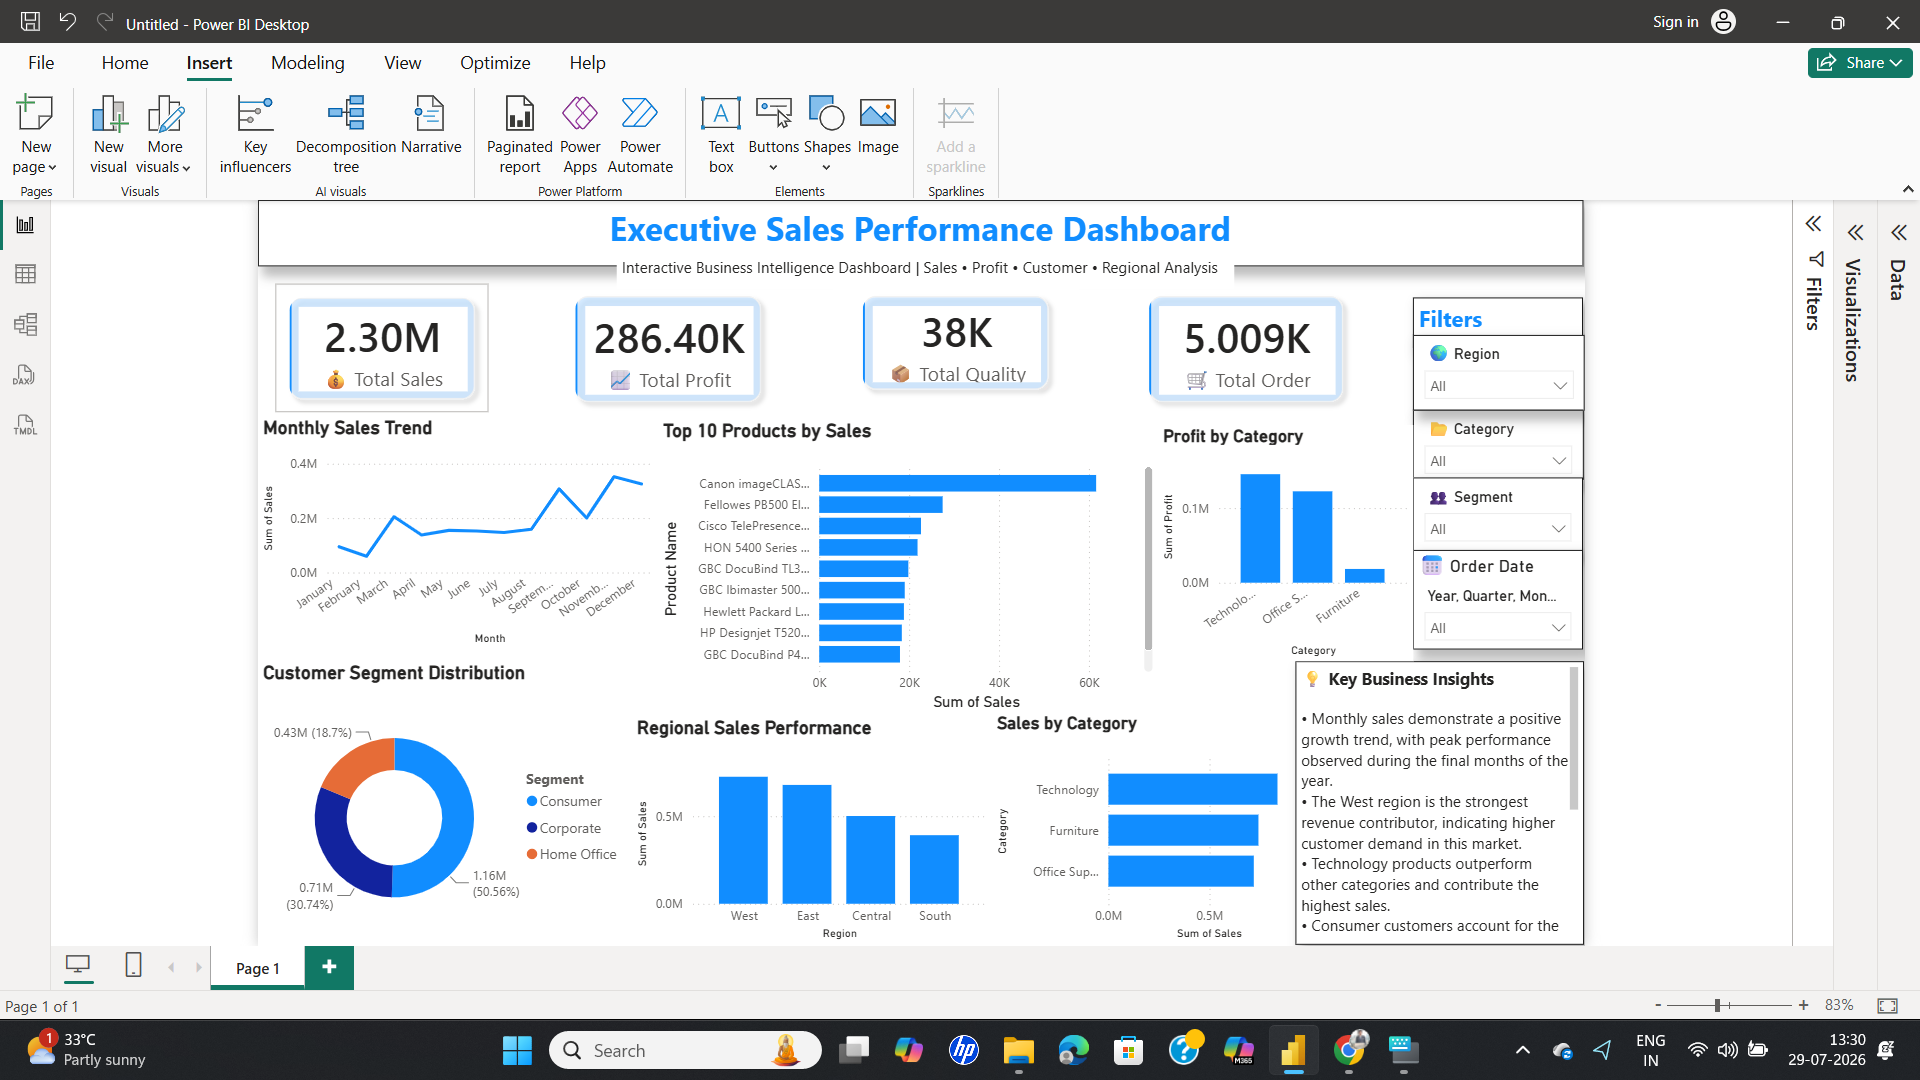

What the dashboard file says about the page in this screenshot:
{"tool":"powerbi","page":{"name":"Page 1","canvas":[1280,720],"ordinal":0},"visuals":[{"type":"cardVisual","fields":{"Data":["Sum(Sample - Superstore.Sales)"]},"box":[0,64.1,239.1,158.7],"z":0},{"type":"cardVisual","fields":{"Data":["Sum(Sample - Superstore.Profit)"]},"box":[278,64.1,237.7,160.5],"z":1000},{"type":"cardVisual","fields":{"Data":["Count(Sample - Superstore.Order ID)"]},"box":[831.2,64.1,245.8,160.9],"z":2000},{"type":"lineChart","title":"Monthly Sales Trend","fields":{"Y":["Sum(Sample - Superstore.Sales)"],"Category":["Sample - Superstore.Order Date.Variation.Date Hierarchy.Month"]},"box":[0,208.7,386.1,255.8],"z":3000},{"type":"clusteredBarChart","title":"Sales by Category","fields":{"Category":["Sample - Superstore.Category"],"Y":["Sum(Sample - Superstore.Sales)"]},"box":[708.2,494.6,326.9,224.4],"z":4000},{"type":"clusteredColumnChart","title":"Regional Sales Performance","fields":{"Category":["Sample - Superstore.Region"],"Y":["Sum(Sample - Superstore.Sales)"]},"box":[360.7,498.3,347.5,220.8],"z":5000},{"type":"donutChart","title":"Customer Segment Distribution","fields":{"Category":["Sample - Superstore.Segment"],"Y":["Sum(Sample - Superstore.Sales)"]},"box":[0,464.5,360.7,254.6],"z":6000},{"type":"clusteredBarChart","title":"Top 10 Products by Sales","fields":{"Category":["Sample - Superstore.Product Name"],"Y":["Sum(Sample - Superstore.Sales)"]},"box":[386.1,212.3,482.5,285.7],"z":7000},{"type":"slicer","fields":{"Values":["Sample - Superstore.Category"]},"box":[1114.8,203,164.7,67.2],"z":8000},{"type":"slicer","fields":{"Values":["Sample - Superstore.Segment"]},"box":[1114.4,268.3,163.8,71.2],"z":9000},{"type":"slicer","title":"📅 Order Date","fields":{"Values":["Sample - Superstore.Order Date.Variation.Date Hierarchy.Year","Sample - Superstore.Order Date.Variation.Date Hierarchy.Quarter","Sample - Superstore.Order Date.Variation.Date Hierarchy.Month","Sample - Superstore.Order Date.Variation.Date Hierarchy.Day"]},"box":[1114.4,338.3,163.8,96.2],"z":10000},{"type":"textbox","box":[0,0,1278.8,63.9],"z":11000},{"type":"textbox","box":[1114.8,94.1,164.1,48.3],"z":12000},{"type":"slicer","fields":{"Values":["Sample - Superstore.Region"]},"box":[1114.8,130,165.6,73],"z":13000},{"type":"textbox","box":[1001.3,445.2,278.7,273.9],"z":14000},{"type":"clusteredColumnChart","title":"Profit by Category","fields":{"Category":["Sample - Superstore.Category"],"Y":["Sum(Sample - Superstore.Profit)"]},"box":[868.6,217.2,246.1,228],"z":15000},{"type":"cardVisual","fields":{"Data":["Sum(Sample - Superstore.Quantity)"]},"box":[555,63.9,237.7,148.4],"z":16000},{"type":"textbox","box":[346.2,49.5,596,36.2],"z":17000}]}

Visuals, with their boxes in screenshot pixels (x1, y1, x2, y2):
cardVisual - Sum(Sample - Superstore.Sales): left=0, top=40, right=284, bottom=275
cardVisual - Sum(Sample - Superstore.Profit): left=341, top=40, right=693, bottom=277
cardVisual - Count(Sample - Superstore.Order ID): left=1160, top=40, right=1523, bottom=278
"Monthly Sales Trend" lineChart: left=0, top=254, right=501, bottom=632
"Sales by Category" clusteredBarChart: left=978, top=677, right=1461, bottom=1009
"Regional Sales Performance" clusteredColumnChart: left=464, top=682, right=978, bottom=1009
"Customer Segment Distribution" donutChart: left=0, top=632, right=464, bottom=1009
"Top 10 Products by Sales" clusteredBarChart: left=501, top=259, right=1215, bottom=682
slicer - Sample - Superstore.Category: left=1579, top=245, right=1823, bottom=345
slicer - Sample - Superstore.Segment: left=1578, top=342, right=1821, bottom=447
"📅 Order Date" slicer: left=1578, top=445, right=1821, bottom=588
textbox: left=0, top=0, right=1822, bottom=40
textbox: left=1579, top=84, right=1822, bottom=156
slicer - Sample - Superstore.Region: left=1579, top=137, right=1824, bottom=245
textbox: left=1411, top=604, right=1823, bottom=1009
"Profit by Category" clusteredColumnChart: left=1215, top=266, right=1579, bottom=604
cardVisual - Sum(Sample - Superstore.Quantity): left=751, top=40, right=1103, bottom=259
textbox: left=442, top=18, right=1324, bottom=72
